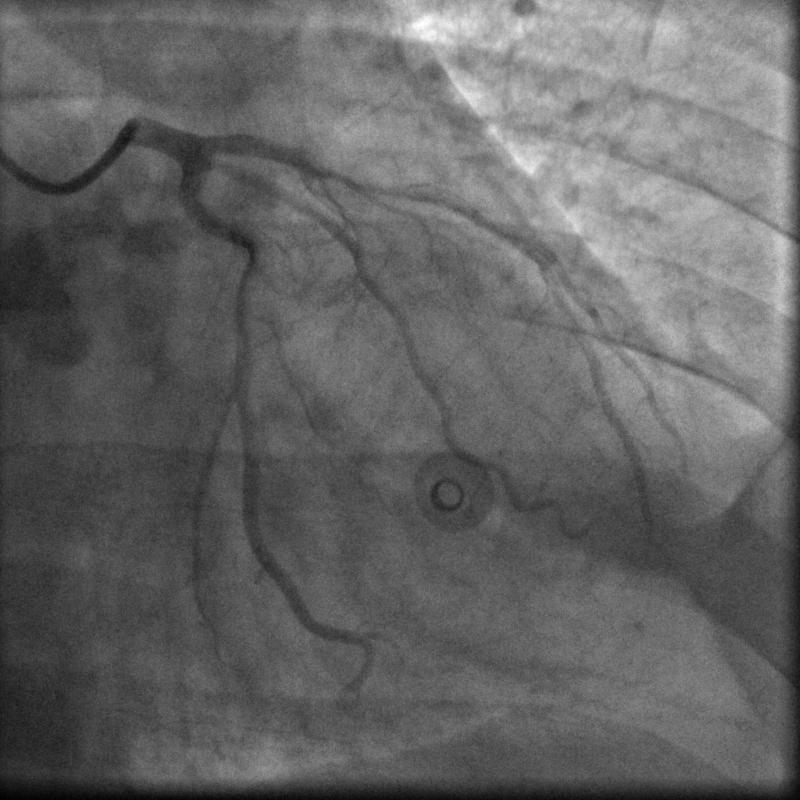Stenosis: (325, 166, 419, 196)
